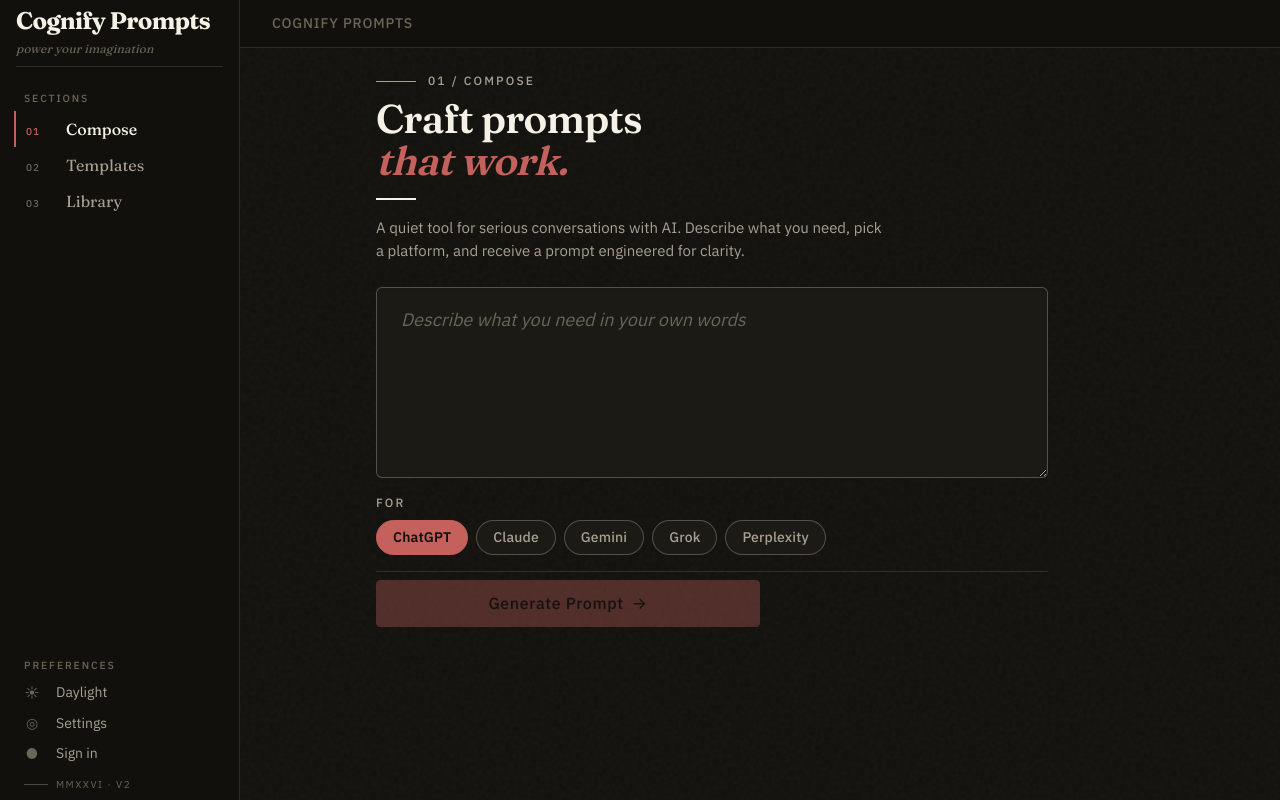
it: App › enables Generate button when input is at least 10 chars
Type "Hello world test" into the text box named "What do you need?". click: (712, 382)
box: [376,286,1048,478]
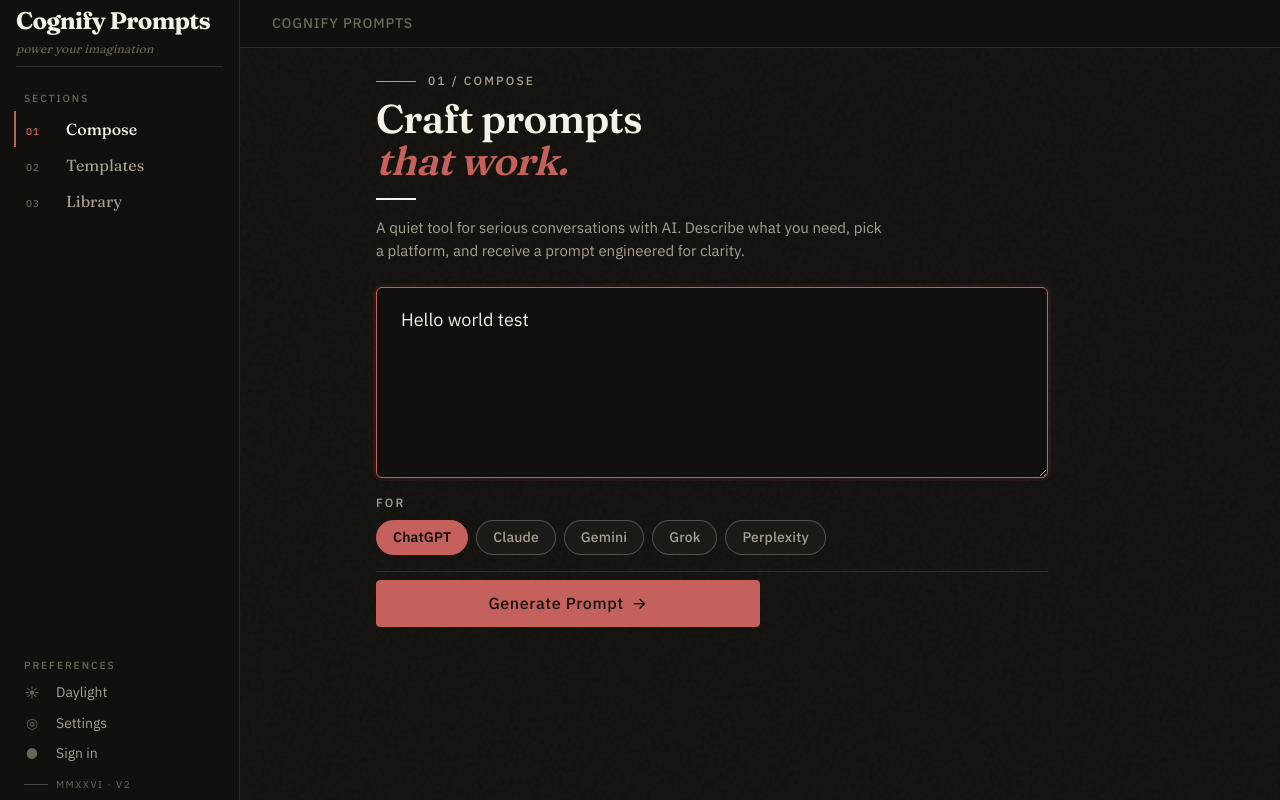
Expected: the button "Generate Prompt →" is enabled, [376,580,760,627]
